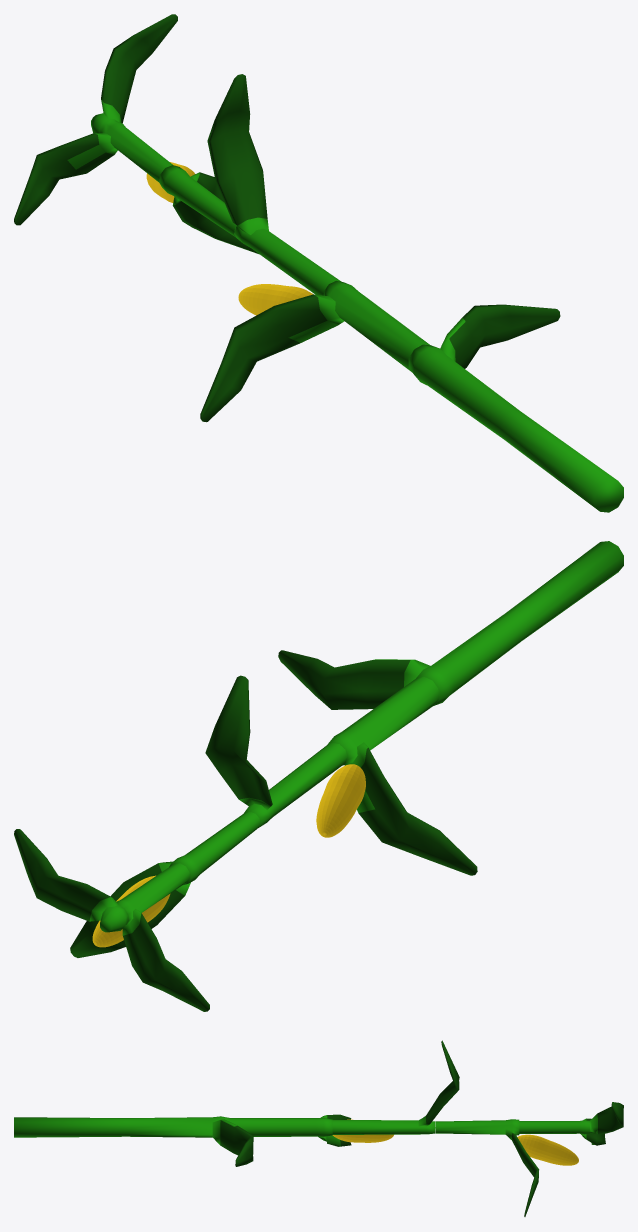
Rendered from corn.fbx.
3 views of the same model, one above another, from view 1: azimuth 30°, elevation 25°; view 2: azimuth 150°, elevation 25°; view 3: azimuth 270°, elevation 25° (orthographic). The views are drawn at different scales.
Parts seen in each view (by area): view 1: cornstalk; view 2: cornstalk; view 3: cornstalk.
Part boxes in pixels (bbox=[...]): cornstalk: bbox=[14, 14, 623, 512]; cornstalk: bbox=[14, 541, 623, 1011]; cornstalk: bbox=[14, 1040, 623, 1216].
Bounding box in the file's own units: 30003 × 9227 × 8072.
